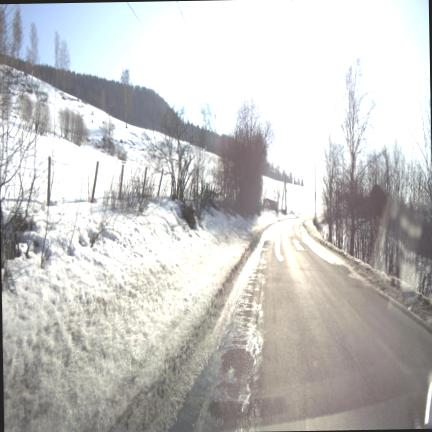Road: (172, 220, 431, 431)
